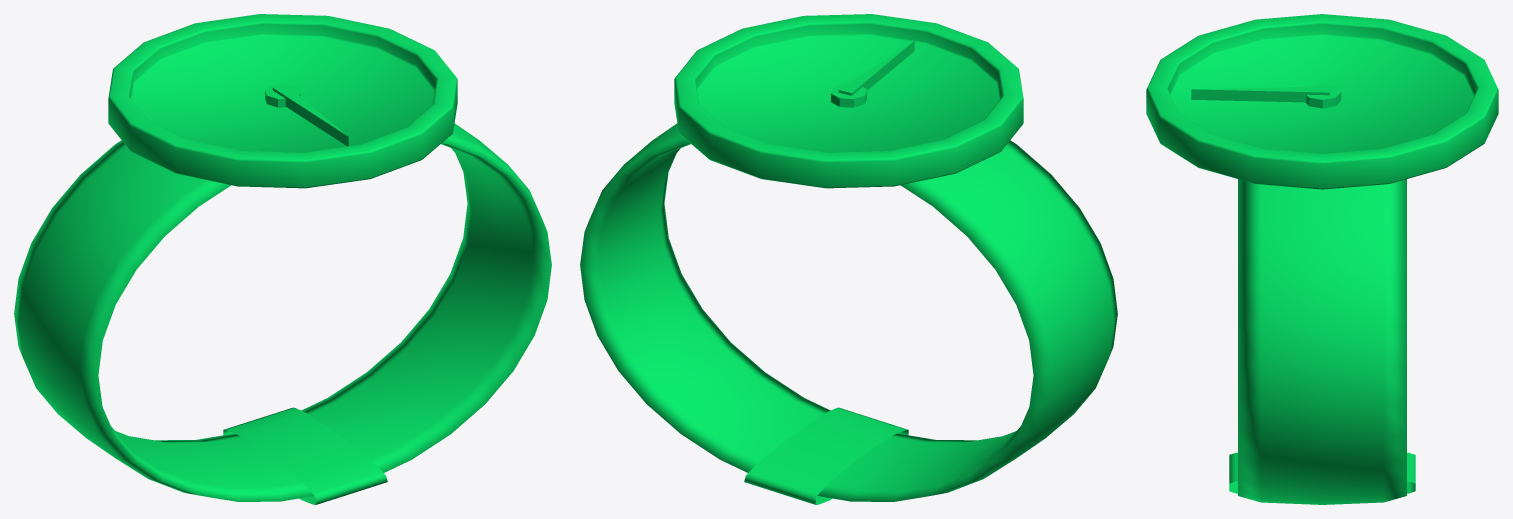
Rendered from Watch01.fbx.
The picture shows the model from 3 angles, left to right: view 1: azimuth 30°, elevation 25°; view 2: azimuth 150°, elevation 25°; view 3: azimuth 270°, elevation 25°; orthographic projection.
Parts seen in each view (by area): view 1: Circle.001, Cylinder; view 2: Circle.001, Cylinder; view 3: Circle.001, Cylinder.
Boxes of the visible parts, box(x1,y1,x2,y2) form: Circle.001: box(14, 14, 551, 504); Cylinder: box(265, 83, 348, 146); Circle.001: box(580, 14, 1117, 504); Cylinder: box(831, 41, 914, 107); Circle.001: box(1146, 14, 1498, 504); Cylinder: box(1191, 84, 1341, 108).
Size of the model in its own units: 6.53 by 5.13 by 4.21.
